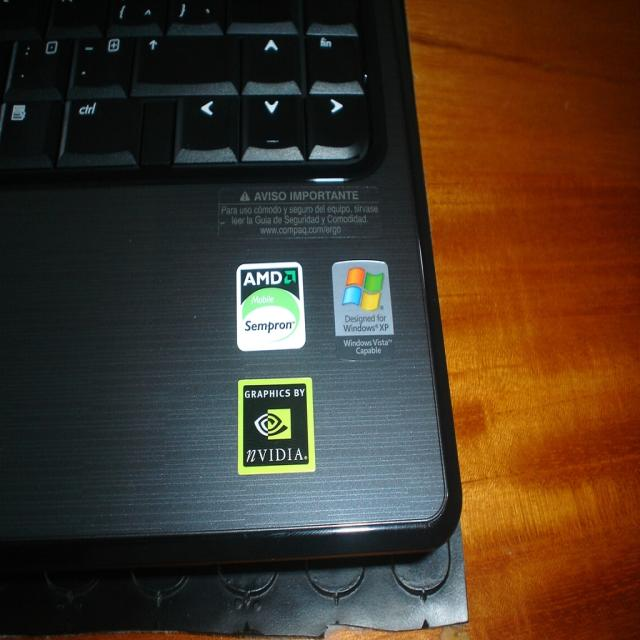nvidia: (255, 409, 293, 441)
